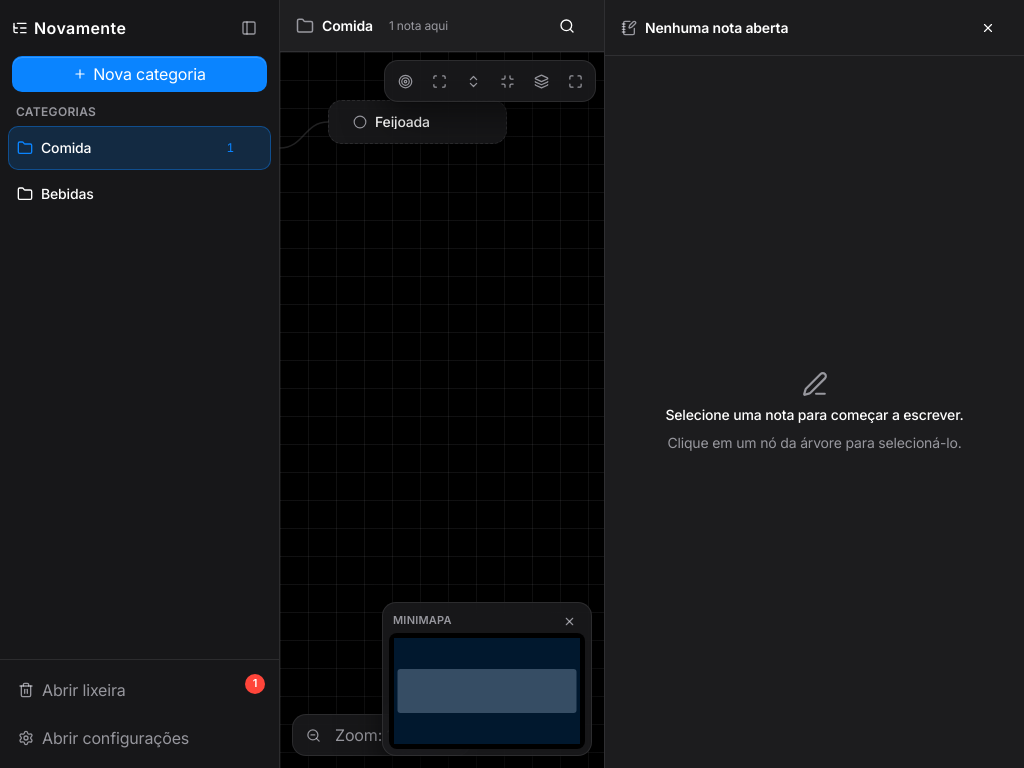
App (Fase 1) › cria categoria e entra em renomeação inline
Click the button "Nova categoria": [140, 74] box [12,56,267,92]
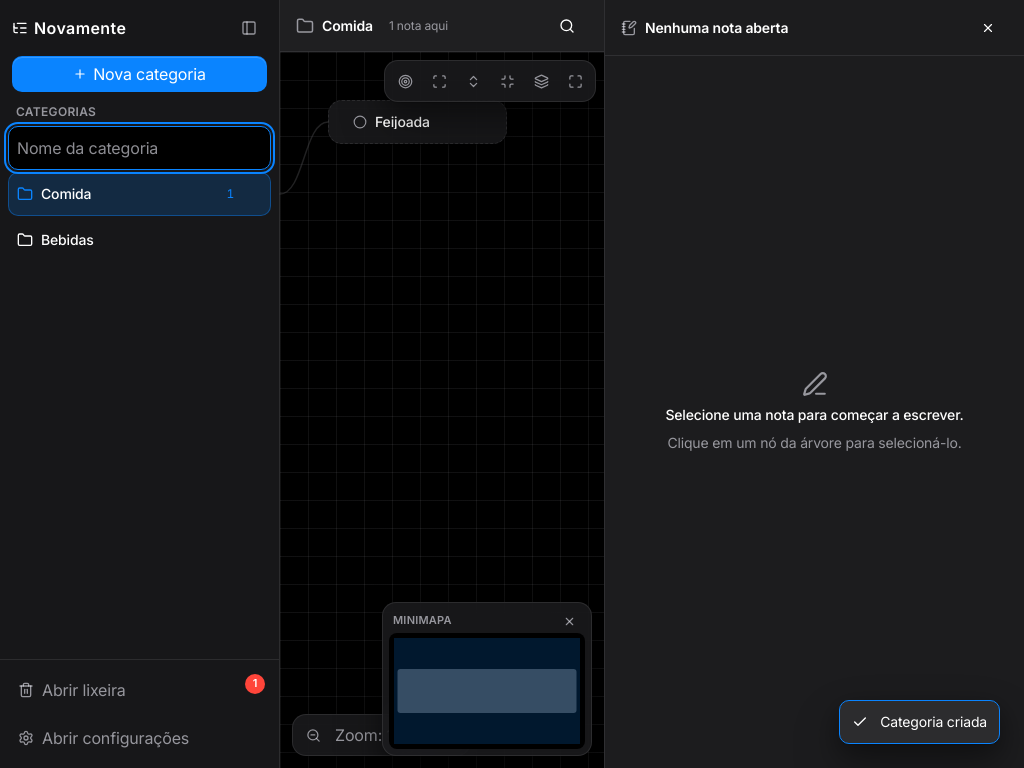
Expected: the field with placeholder "Nome da categoria" is shown
In the field with placeholder "Nome da categoria": [140, 148] box [8,126,271,170], type "Livros"
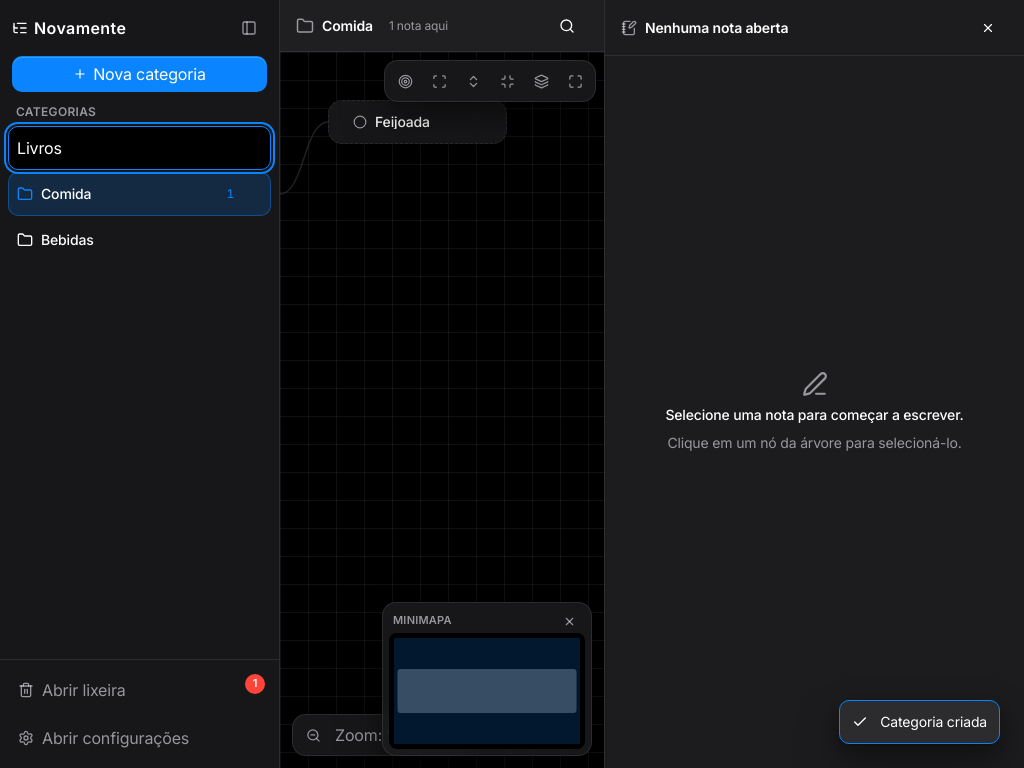
Press Enter in the field with placeholder "Nome da categoria", box [8,126,271,170]
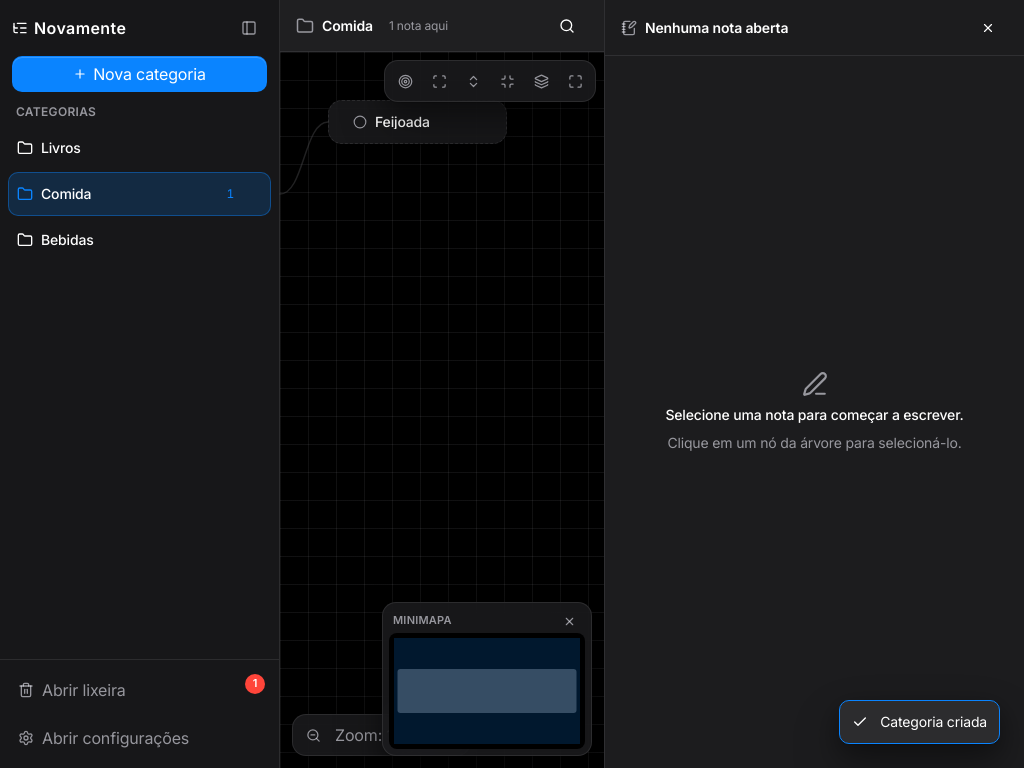
Expected: the text "Livros" is shown, [41,138,81,158]
